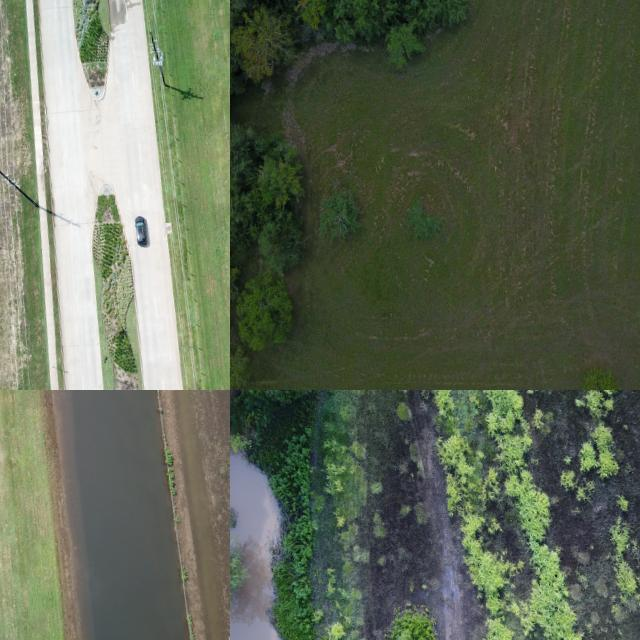fire: (53, 390, 188, 640), (230, 450, 280, 640)
